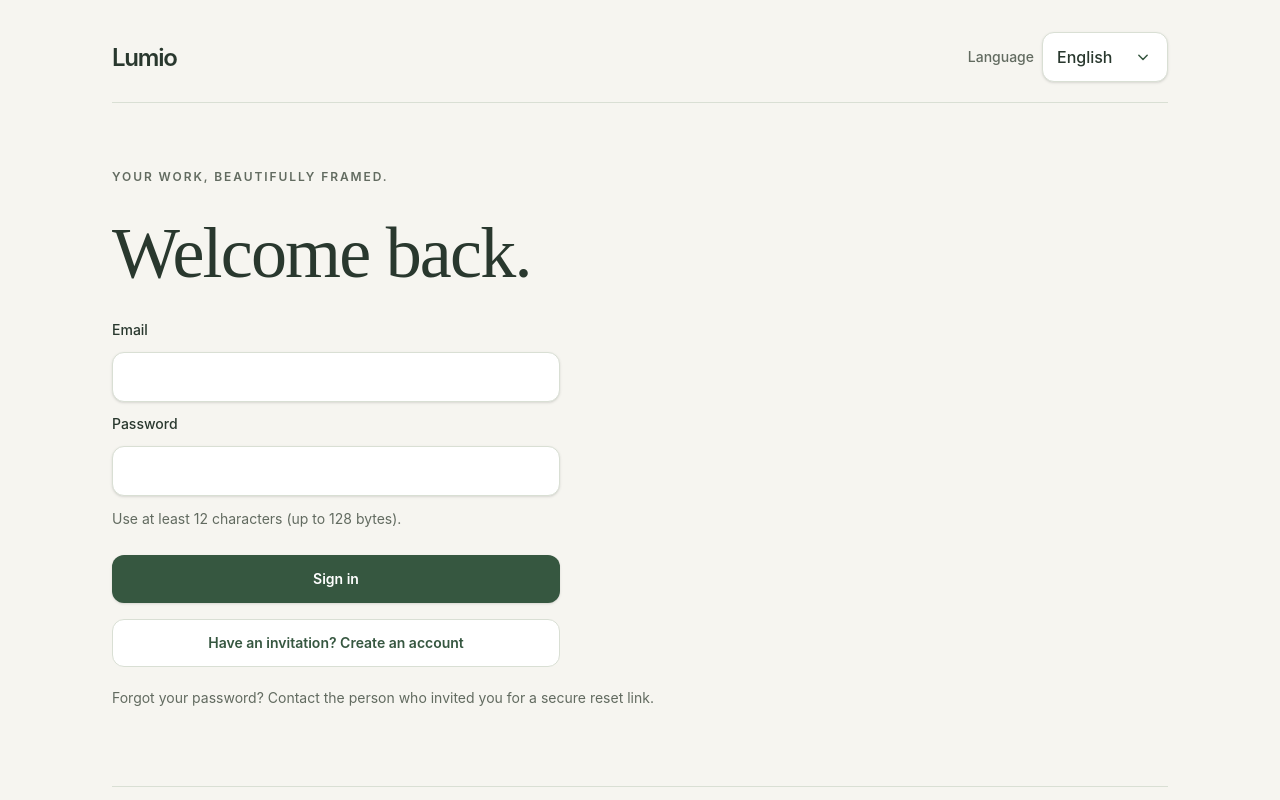
Scenario: shows authentication failures and allows retry
expect the heading "Welcome back." is shown: met, box [112,212,531,292]
Type "anna@example.com" into the field labelled "Email" at (336, 377), box [112,352,560,402]
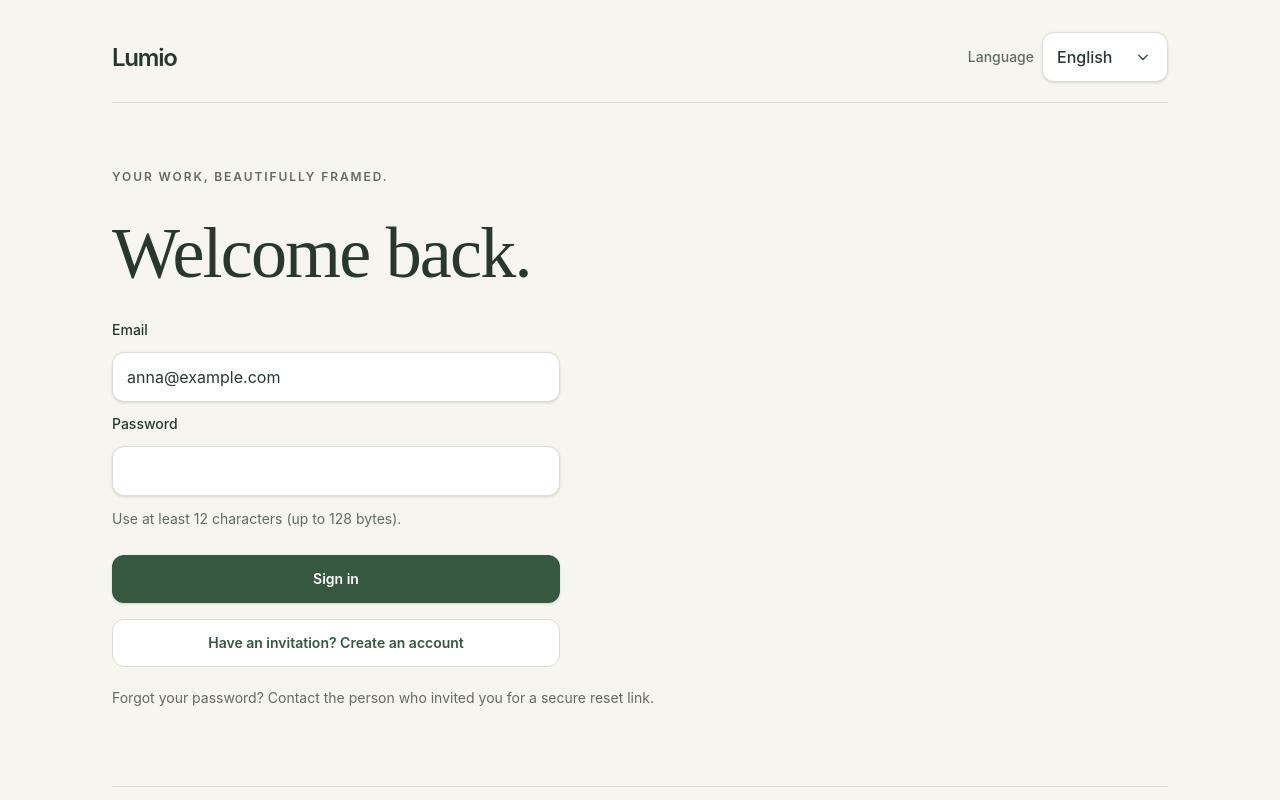
Type "long-enough-password" into the password field labelled "Password" at (336, 471), box [112,446,560,496]
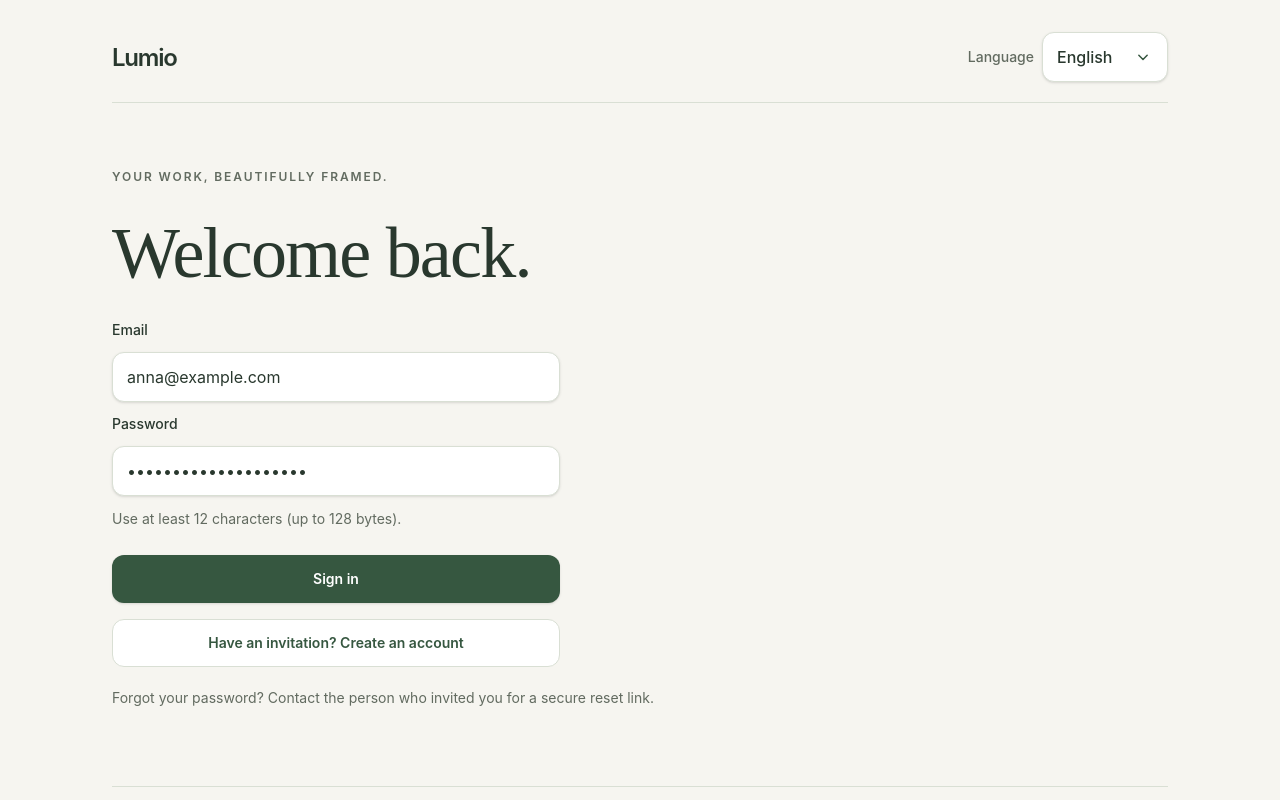
Click the button "Sign in" at (336, 579), box [112,555,560,603]
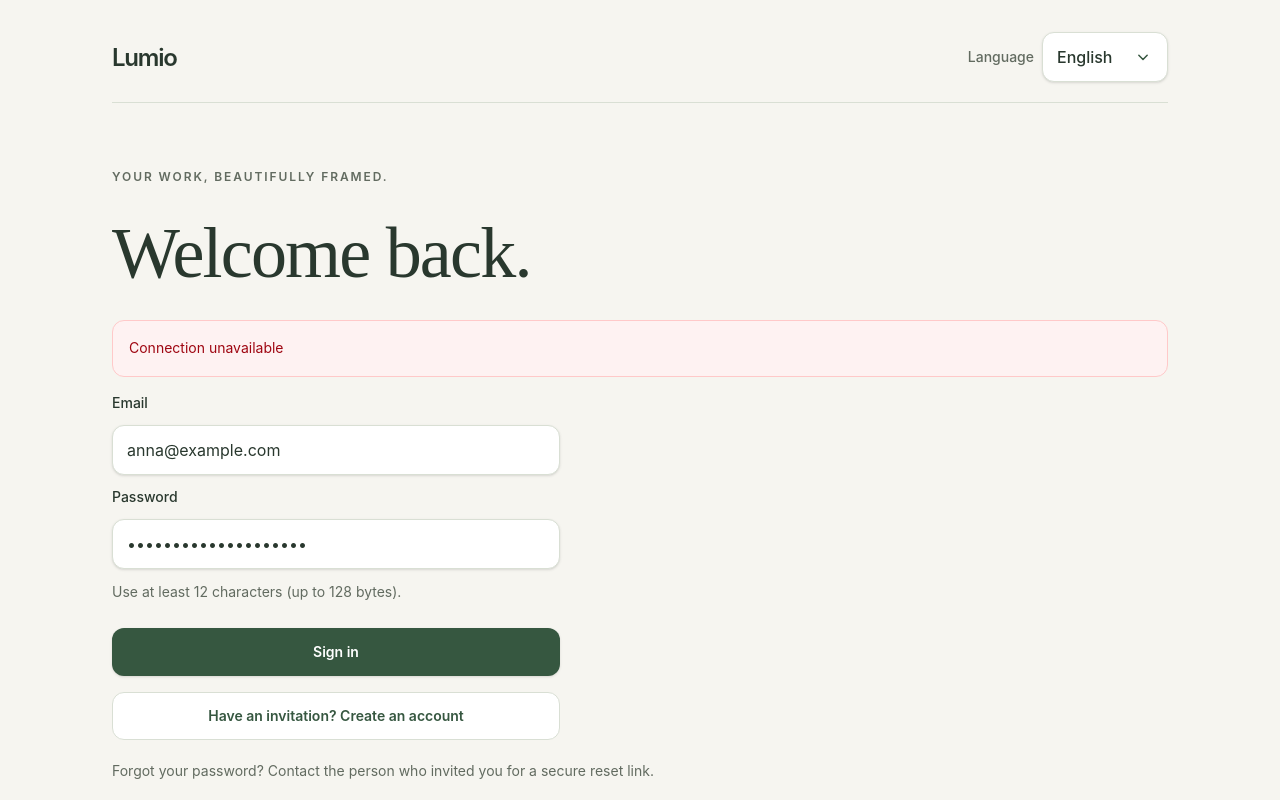
expect the button "Sign in" is enabled: met, box [112,628,560,676]
expect the message reads "Connection unavailable": met, box [129,339,284,356]
